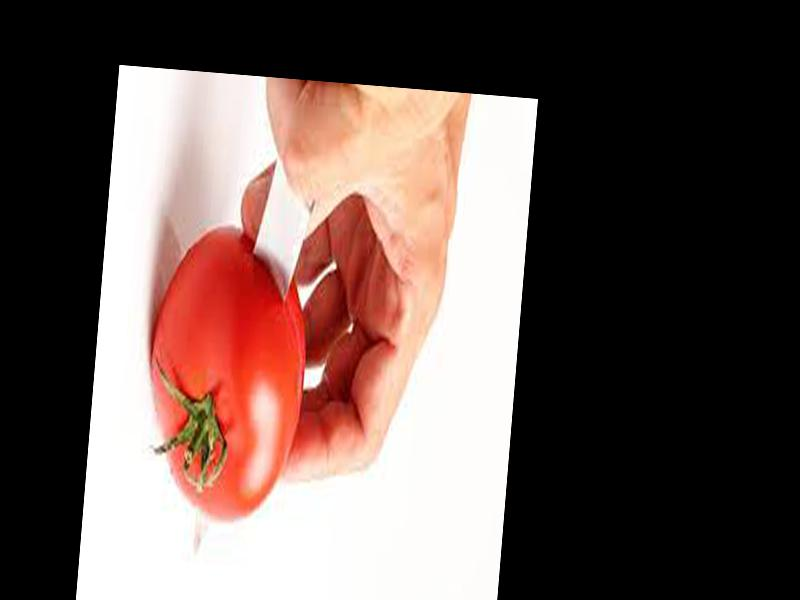Tomato: (139, 222, 316, 521)
